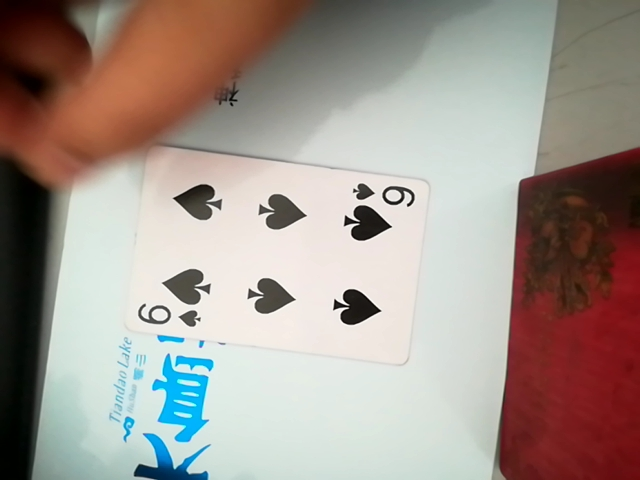ht 6: (107, 143, 426, 363)
